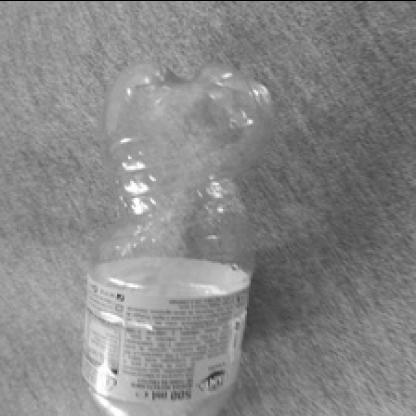plastic_bottles: (85, 57, 263, 415)
